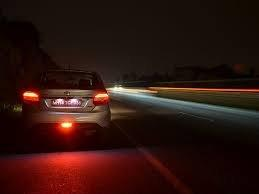Liscence Plate: (48, 99, 86, 108)
